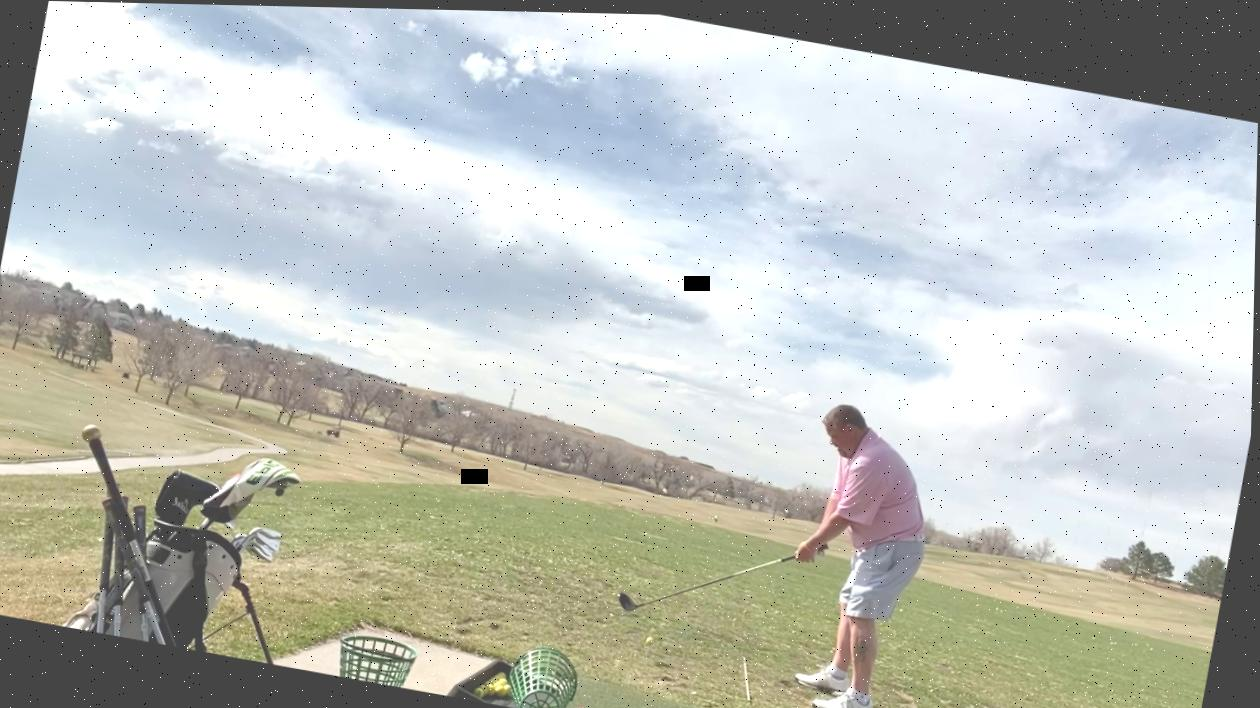ClubHead: (613, 584, 650, 616)
GolfBall: (642, 629, 661, 648)
